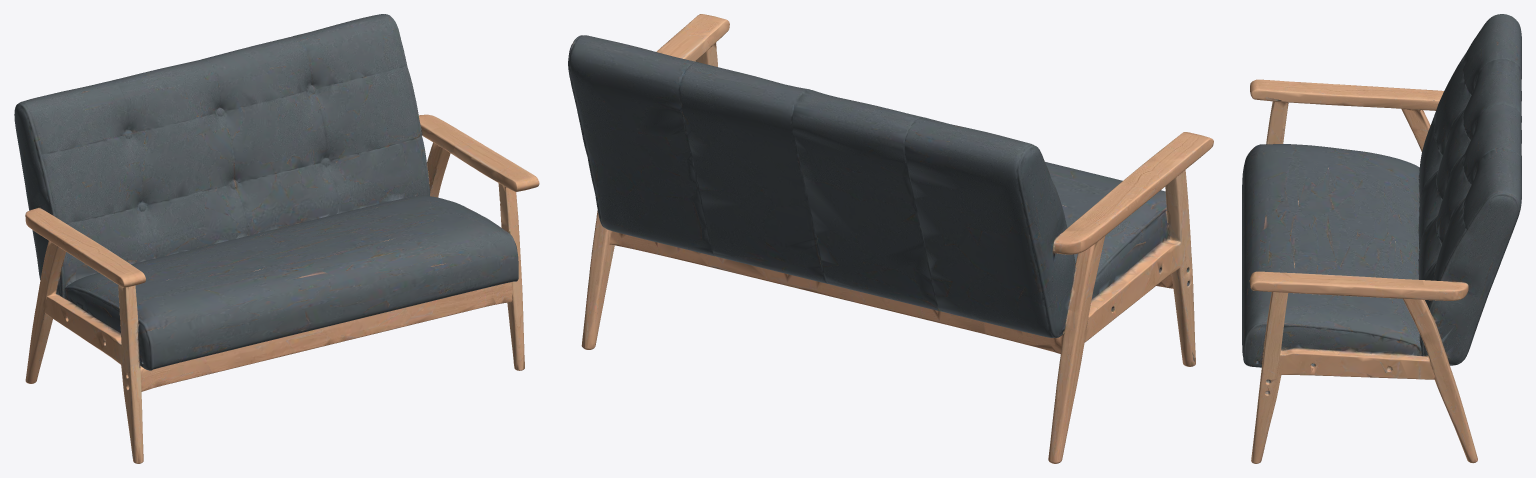
The model's file is sofa-2-sitzer-01.glb.
3 views of the same model, side by side, from view 1: azimuth 30°, elevation 25°; view 2: azimuth 150°, elevation 25°; view 3: azimuth 270°, elevation 25° (orthographic). The views are drawn at different scales.
Bounding box in the file's own units: 1.9 × 1.17 × 1.11.
Materials: 1 (1 with a texture image).
